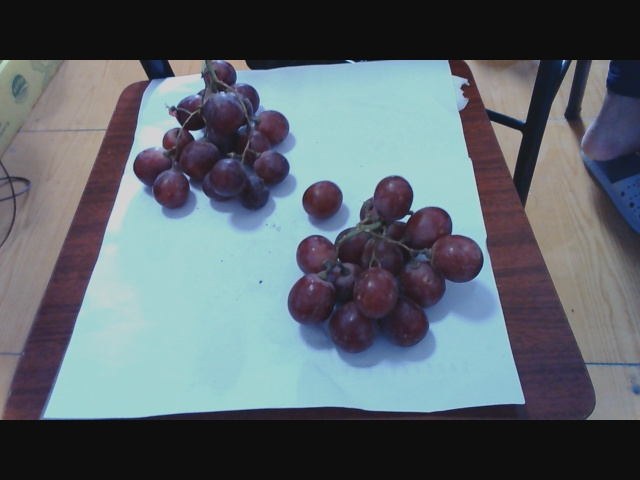grape: (284, 175, 486, 356), (128, 65, 296, 223)
